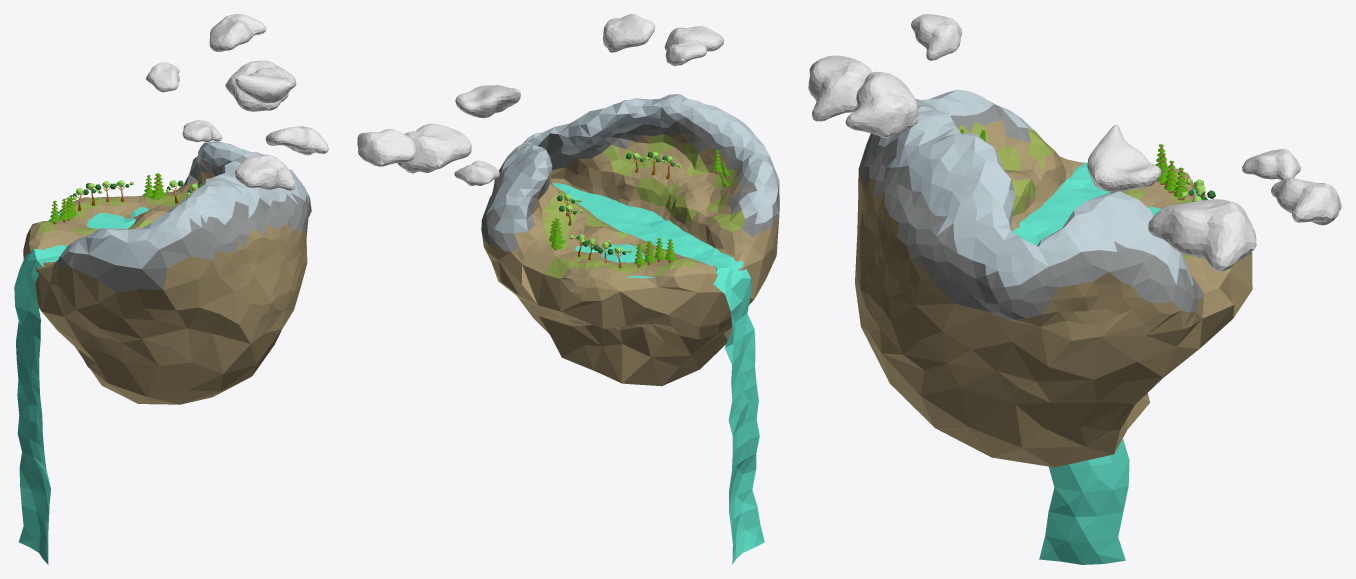
Rendered from island3.glb.
The picture shows the model from 3 angles, left to right: view 1: azimuth 30°, elevation 25°; view 2: azimuth 150°, elevation 25°; view 3: azimuth 270°, elevation 25°; orthographic projection. The views are drawn at different scales.
Parts seen in each view (by area): view 1: base_world, water_mesh, cloude_set_001; view 2: base_world, water_mesh, cloude_set_001; view 3: base_world, cloude_set_001, water_mesh.
Boxes of the visible parts, bbox=[...] form: base_world: bbox=[23, 141, 311, 404]; water_mesh: bbox=[14, 207, 148, 564]; cloude_set_001: bbox=[145, 14, 328, 190]; base_world: bbox=[481, 94, 779, 386]; water_mesh: bbox=[552, 183, 764, 564]; cloude_set_001: bbox=[357, 14, 723, 185]; base_world: bbox=[855, 89, 1252, 467]; cloude_set_001: bbox=[808, 14, 1341, 271]; water_mesh: bbox=[1012, 162, 1207, 564].
Size of the model in its own units: 5.07 by 6.83 by 5.33.
